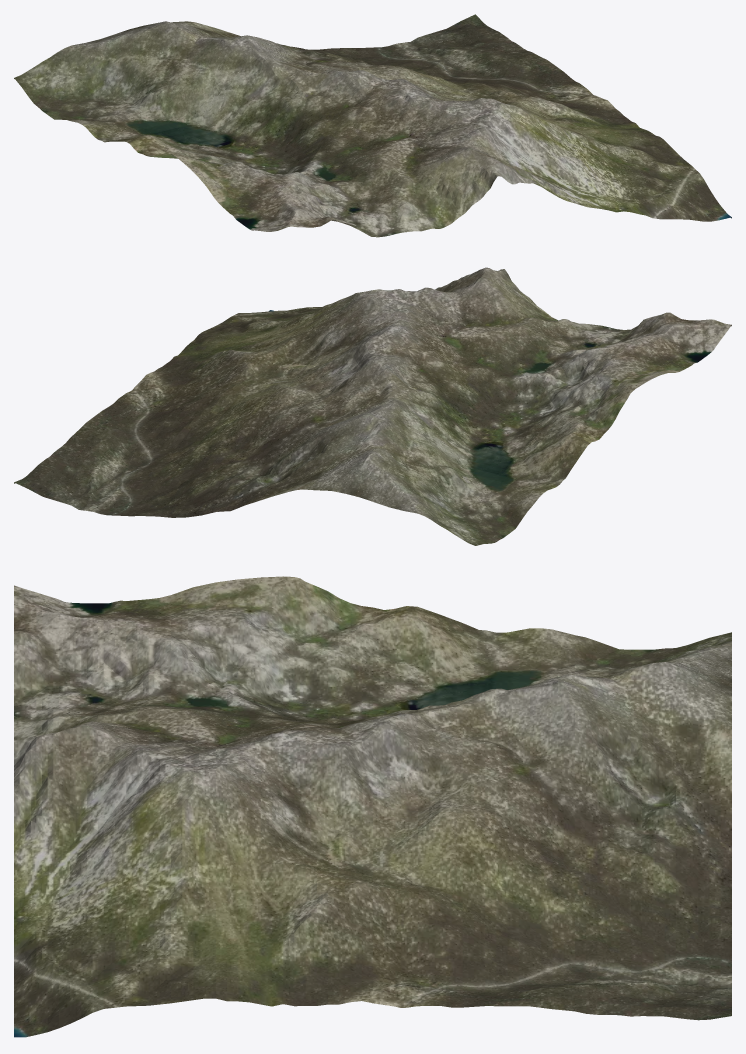
3 views of the same model, one above another, from view 1: azimuth 30°, elevation 25°; view 2: azimuth 150°, elevation 25°; view 3: azimuth 270°, elevation 25° (orthographic). The views are drawn at different scales.
Bounding box in the file's own units: 4001 × 927 × 3850.
1 material, 1 textured.
